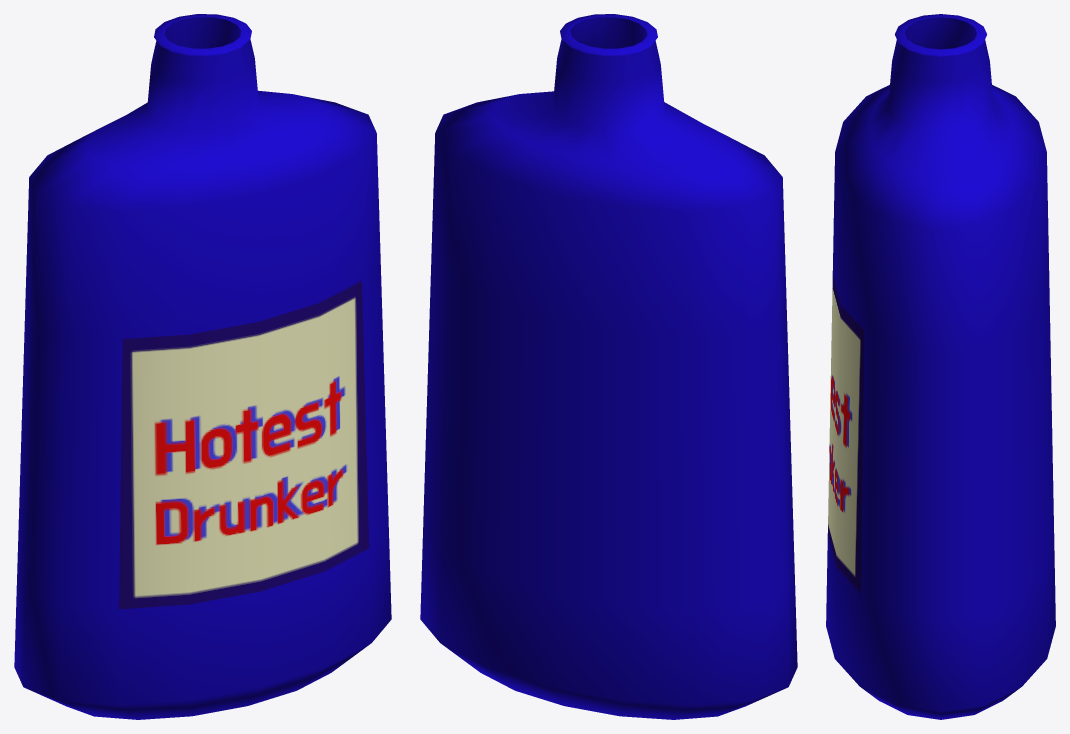
The model's file is Liquor_Hottest_Drunker.fbx.
3 views of the same model, side by side, from view 1: azimuth 30°, elevation 25°; view 2: azimuth 150°, elevation 25°; view 3: azimuth 270°, elevation 25° (orthographic). The views are drawn at different scales.
Visible parts, largest first — view 1: Rum; view 2: Rum; view 3: Rum.
Part boxes in pixels (<box>): Rum: <box>14,14,391,719</box>; Rum: <box>420,14,797,719</box>; Rum: <box>826,14,1055,719</box>.
Size of the model in its own units: 1.63 by 2.78 by 0.9316.
3 materials, 3 textured.
